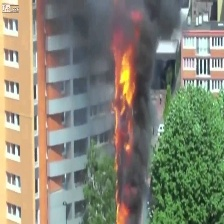fire: (108, 32, 131, 223)
smoke: (132, 1, 180, 219)
